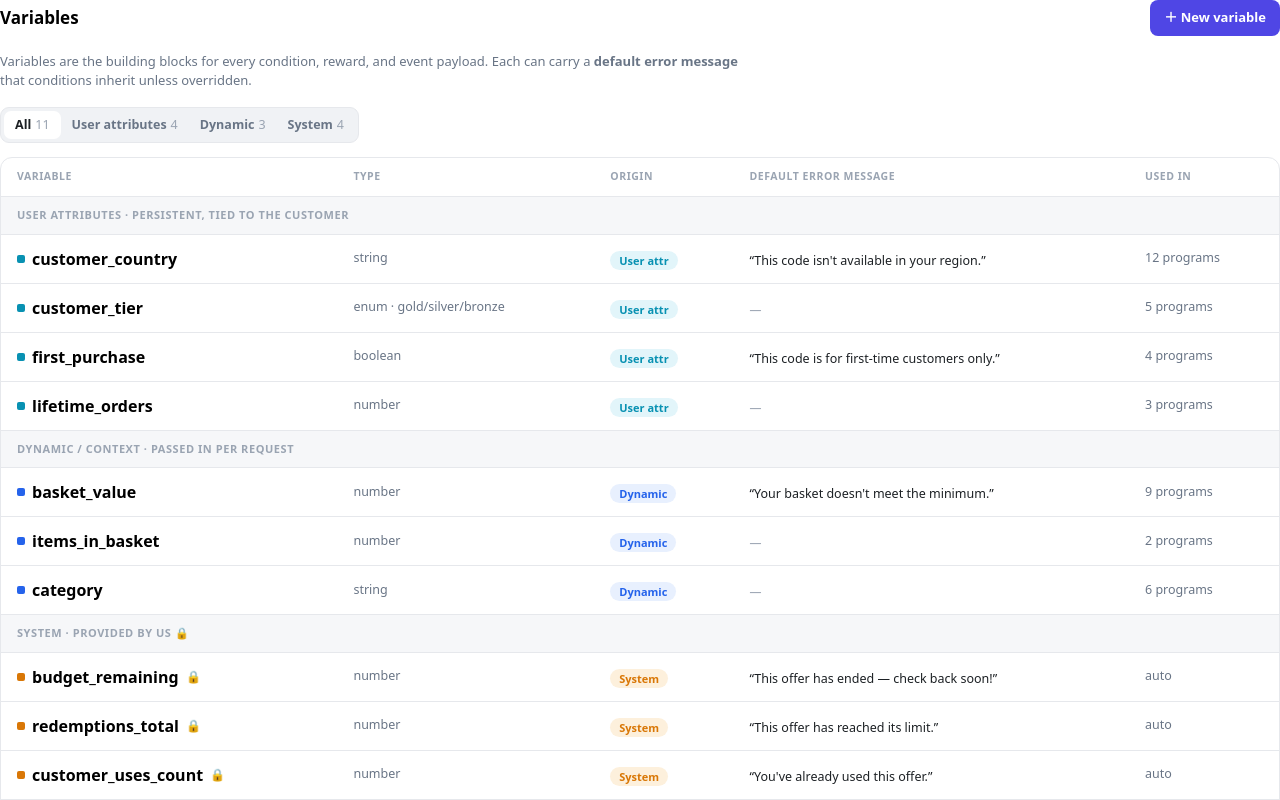
Test: clicking a user variable row opens the panel in edit mode
// Click the customer_country row
Click the text "customer_country" at (97, 258), box x1=17 y1=248 x2=177 y2=270
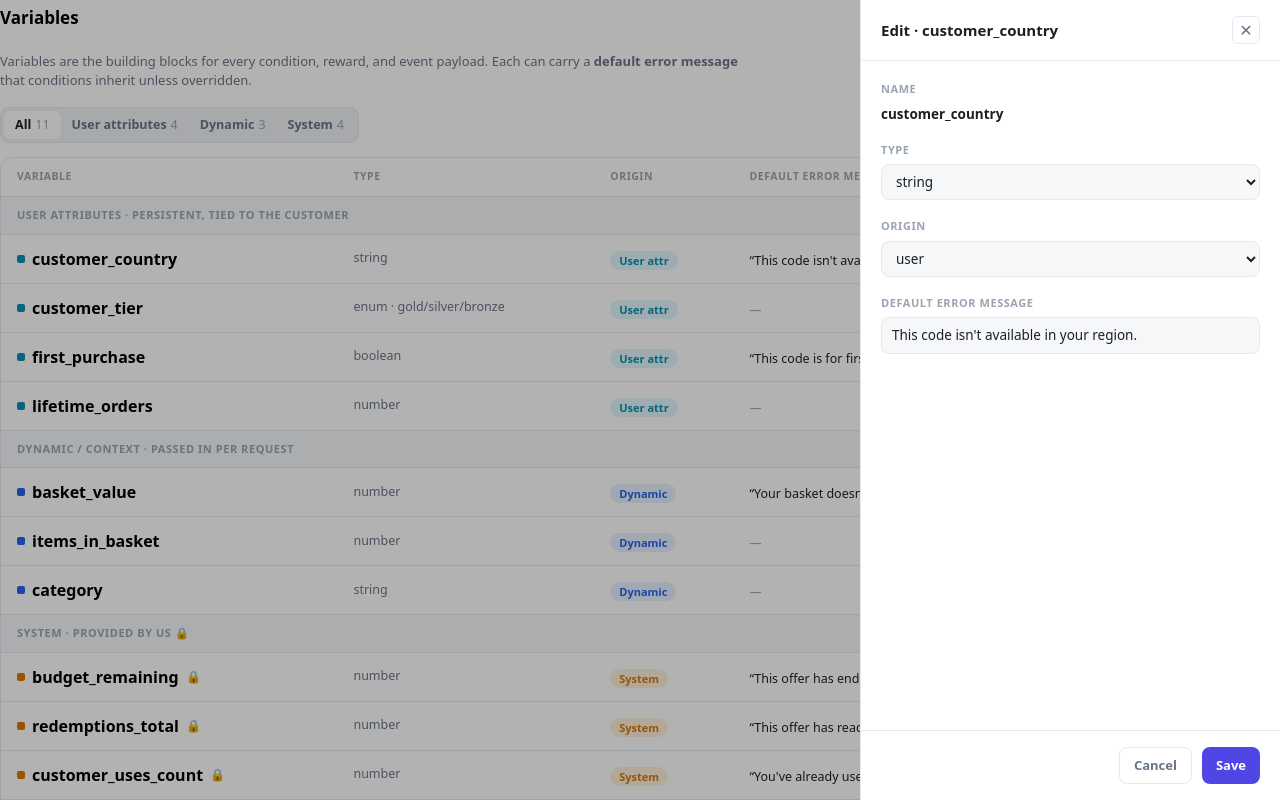
expect the button "Save" is shown: met, box x1=1202 y1=746 x2=1260 y2=784
